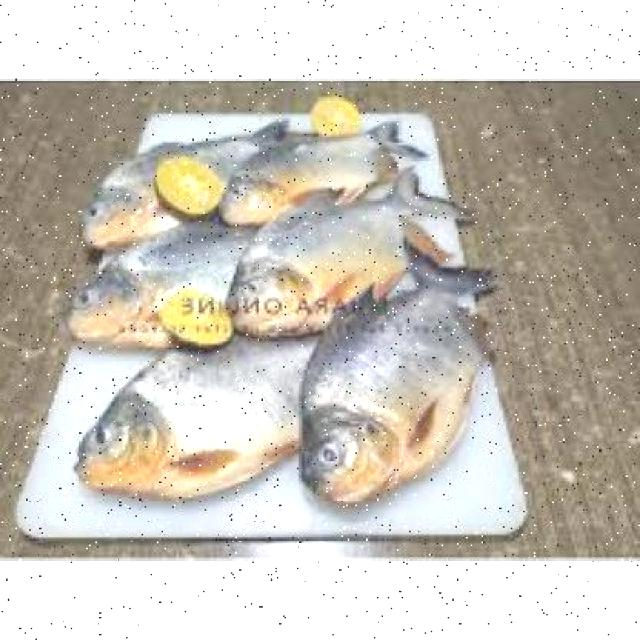ikan-pacu: (296, 262, 498, 510), (68, 338, 307, 514), (233, 181, 447, 324), (57, 222, 251, 356), (72, 122, 254, 246), (222, 119, 396, 216)
